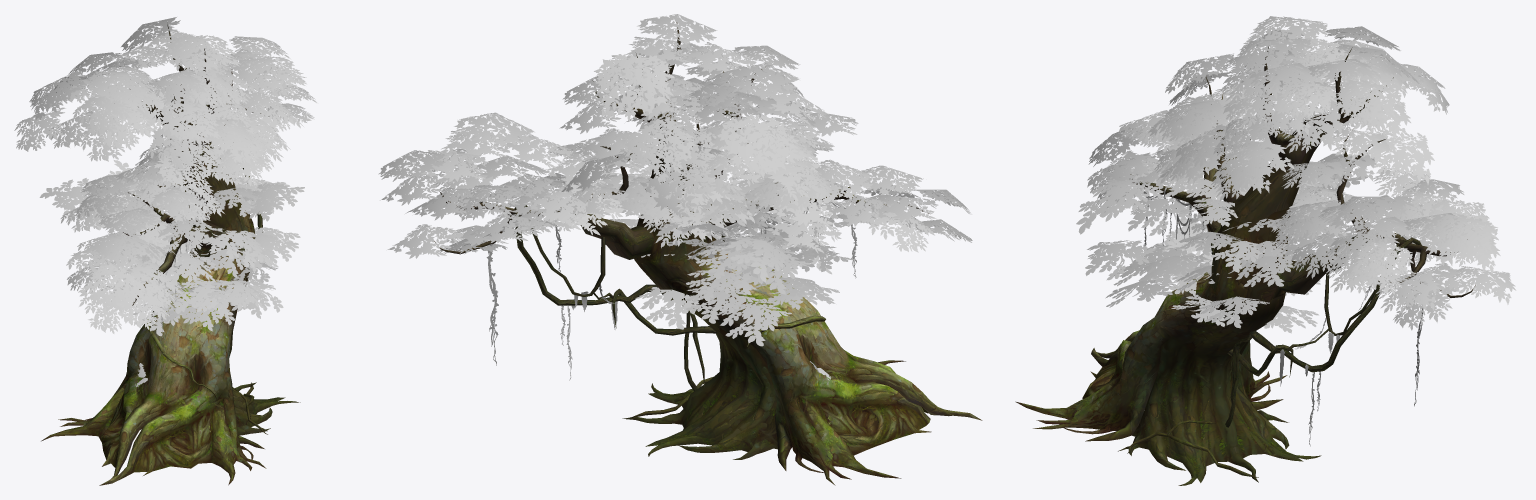
The model's file is Game Ready Fantasy Tree_Fbx.fbx.
The picture shows the model from 3 angles, left to right: view 1: azimuth 30°, elevation 25°; view 2: azimuth 150°, elevation 25°; view 3: azimuth 270°, elevation 25°; orthographic projection. The views are drawn at different scales.
Parts seen in each view (by area): view 1: tree_03; view 2: tree_03; view 3: tree_03.
Boxes of the visible parts, x1,y1,x2,y2 form: tree_03: [14, 17, 316, 485]; tree_03: [378, 14, 982, 485]; tree_03: [1015, 16, 1516, 485].
Size of the model in its own units: 41.8 by 39.17 by 43.37.
